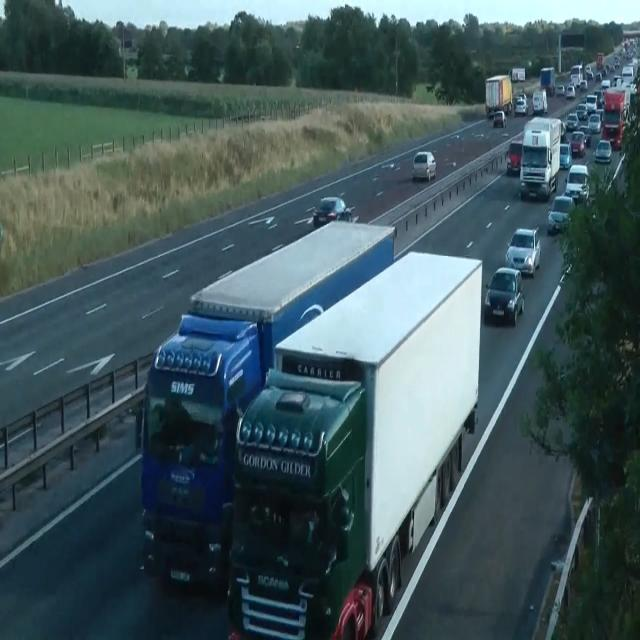bus: (484, 267, 524, 326), (505, 226, 541, 277), (312, 196, 356, 230), (547, 194, 576, 234), (564, 164, 590, 203), (412, 150, 436, 182), (507, 140, 522, 175), (594, 138, 612, 164), (568, 131, 586, 157), (559, 141, 571, 169), (514, 95, 528, 116), (578, 125, 591, 147), (588, 114, 602, 133), (565, 112, 579, 131), (493, 110, 507, 128), (576, 103, 588, 120), (594, 89, 604, 107), (566, 84, 576, 98), (556, 85, 565, 95)
car: (225, 249, 482, 637), (138, 215, 397, 593)
minibus: (519, 116, 561, 200), (601, 87, 627, 149), (484, 74, 512, 116), (540, 67, 556, 95), (570, 64, 587, 89), (532, 89, 548, 115), (622, 64, 636, 87), (508, 66, 526, 82), (596, 52, 604, 68)
